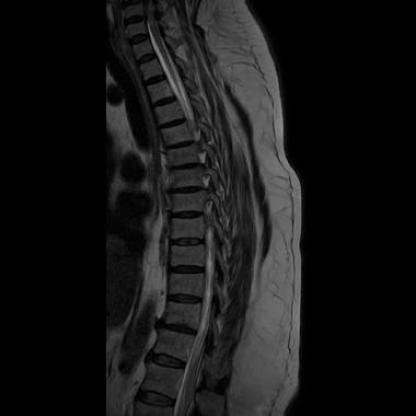Osteophytesrotation: (137, 30, 214, 416)
